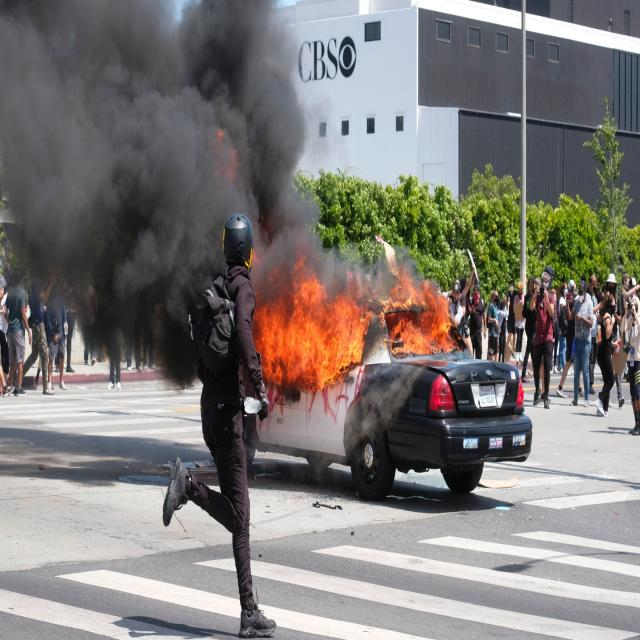fire: (252, 257, 330, 392), (378, 263, 463, 358), (330, 282, 369, 386), (214, 127, 240, 185)
